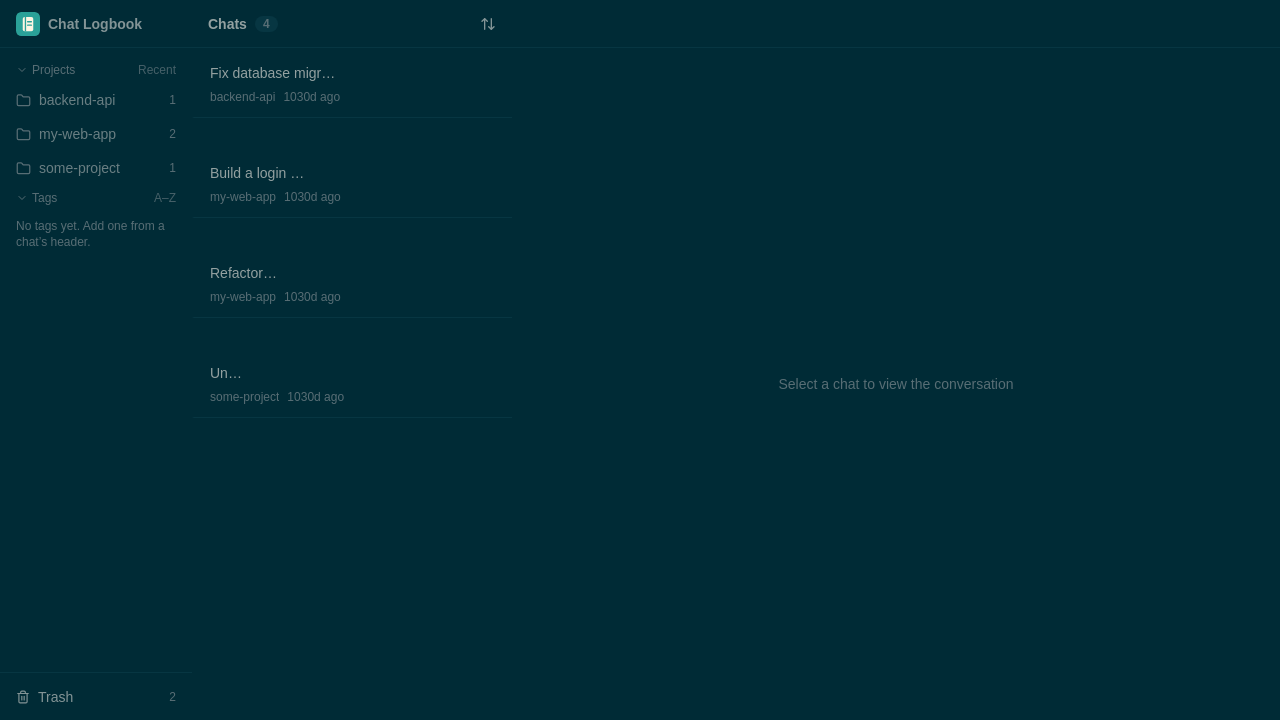
Scenario: Trash sort › no longer shows the 'Trash (N)' text label in the header
This screenshot has width=1280, height=720.
Expected: the text "Build a login page" is shown, left=204, top=161, right=315, bottom=185
Click the button with test id "trash-link" at (96, 696), box left=8, top=680, right=184, bottom=712
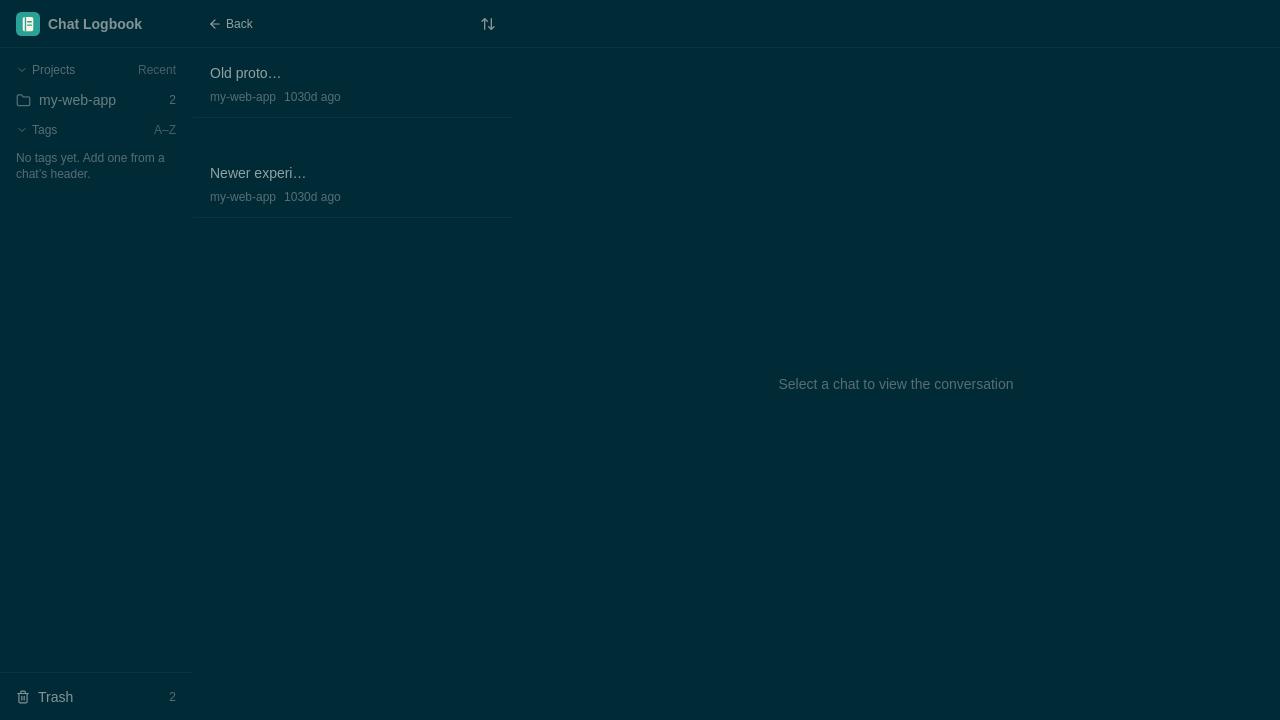
Expected: the button "Back" is shown, left=208, top=16, right=253, bottom=32
Now the text "Old prototype" is shown, box left=204, top=61, right=288, bottom=85
